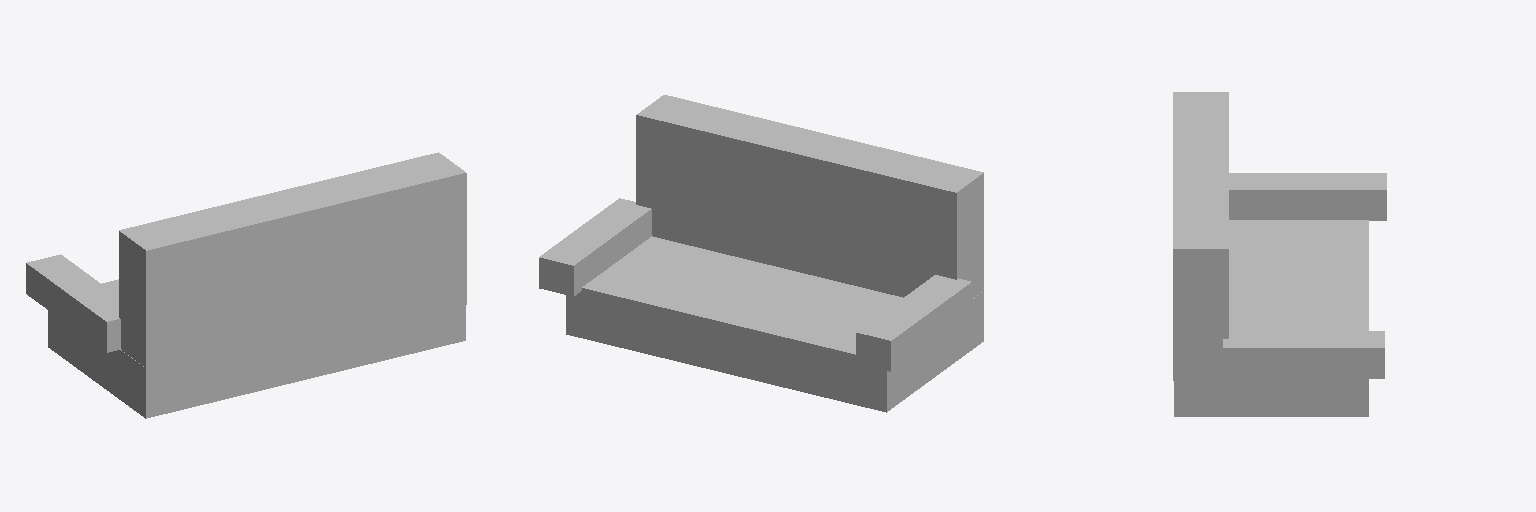
File: couch3.obj
3 renders of one model, left to right at view 1: azimuth 30°, elevation 25°; view 2: azimuth 150°, elevation 25°; view 3: azimuth 270°, elevation 25°, orthographic.
Visible parts, largest first — view 1: Cube.003, Cube.001, Cube.002; view 2: Cube.003, Cube.001, Cube.002, Cube; view 3: Cube.001, Cube.003, Cube, Cube.002.
Boxes of the visible parts, <box> form: Cube.003: <box>119,152,466,382</box>; Cube.001: <box>48,279,465,418</box>; Cube.002: <box>26,254,120,352</box>; Cube.003: <box>636,95,983,298</box>; Cube.001: <box>566,236,983,412</box>; Cube.002: <box>856,275,971,371</box>; Cube: <box>539,198,651,296</box>; Cube.001: <box>1174,220,1368,416</box>; Cube.003: <box>1173,92,1228,380</box>; Cube: <box>1223,331,1384,378</box>; Cube.002: <box>1229,173,1386,220</box>.
Size of the model in its own units: 13.5 by 6.14 by 7.07.